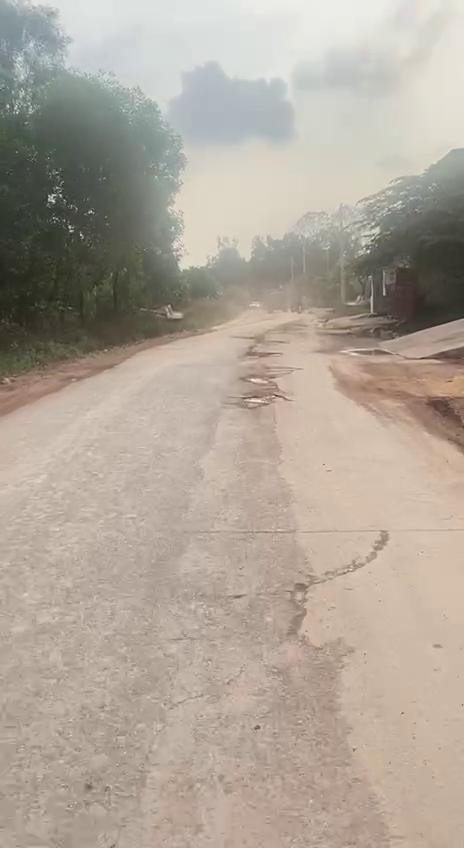pothole: (242, 392, 280, 412), (239, 371, 278, 387)
